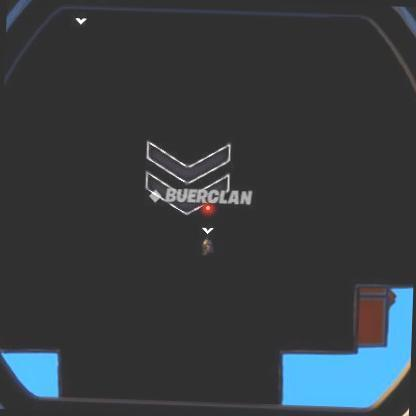person: (203, 234, 214, 254)
